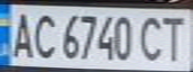0: (112, 12, 139, 62)
4: (97, 11, 118, 61)
6: (57, 10, 81, 61)
7: (78, 11, 100, 61)
A: (6, 8, 36, 60)
C: (136, 12, 169, 63), (30, 9, 60, 60)
T: (157, 12, 190, 63)
